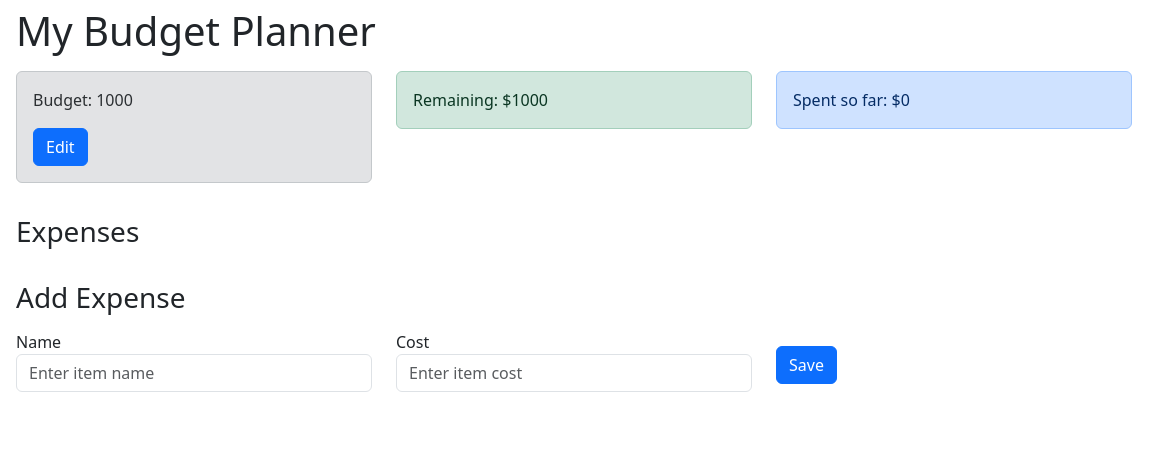
Scenario: Delete an expense › expense deleted on click
Step 1. Type "Expense 1" into the field with placeholder "Enter item name" → [194, 373], box [16, 354, 372, 392]
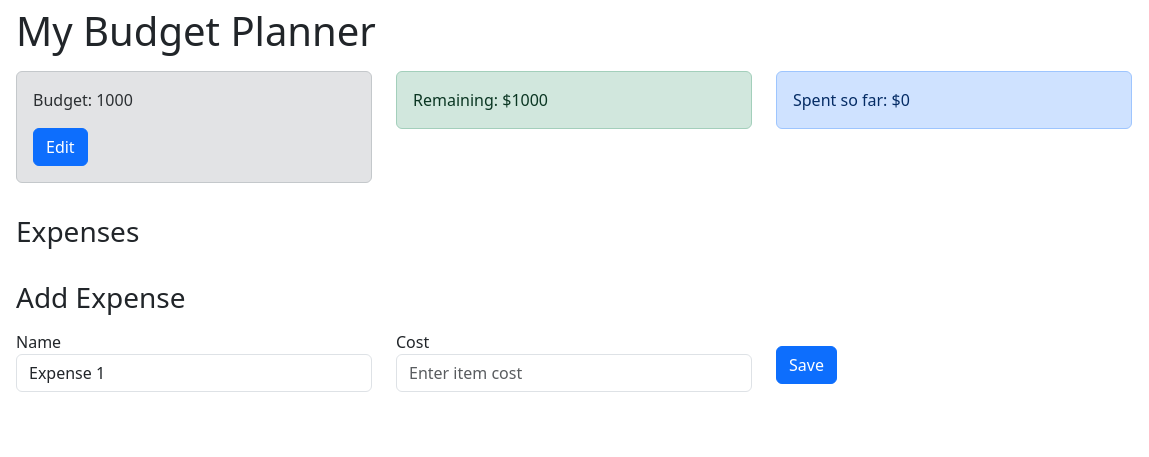
Step 2. Type "200" into the field with placeholder "Enter item cost" → [574, 373], box [396, 354, 752, 392]
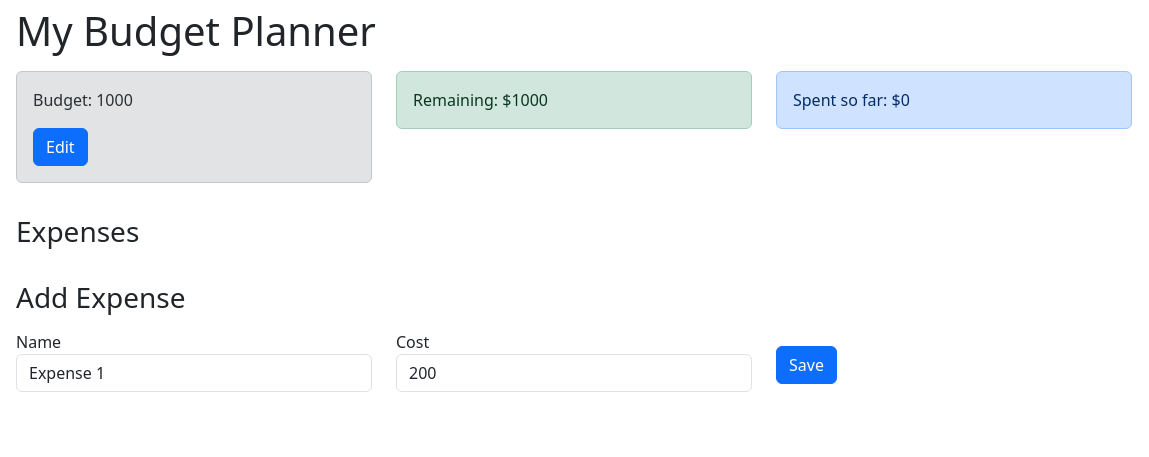
Step 3. Click the button "Save" → [806, 365], box [776, 346, 837, 384]
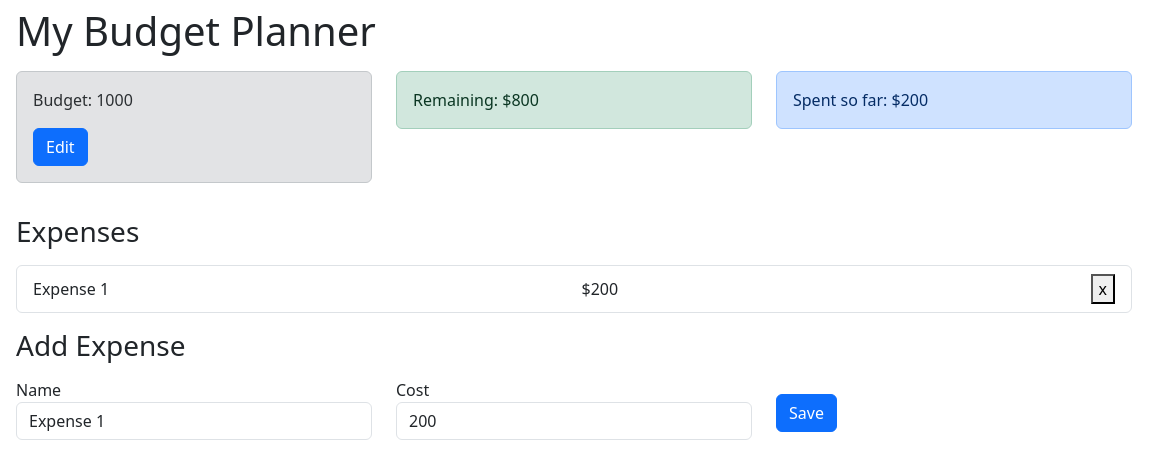
Expected: the text "$200" is shown, [582, 277, 618, 301]
Expected: the text "Expense 1" is shown, [33, 277, 109, 301]
Step 4. Click the button "x" → [1103, 289], box [1090, 274, 1115, 304]
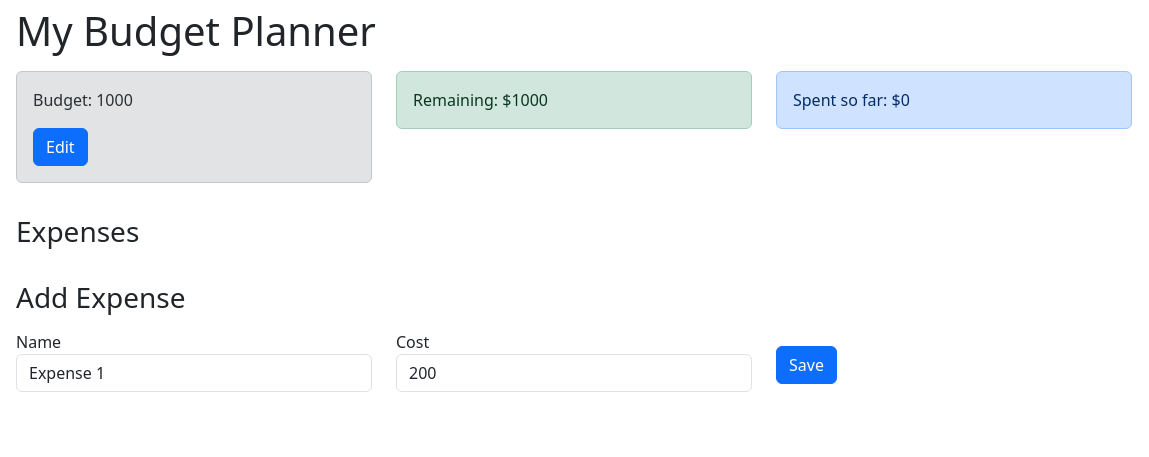
Expected: the text "$200" is gone
